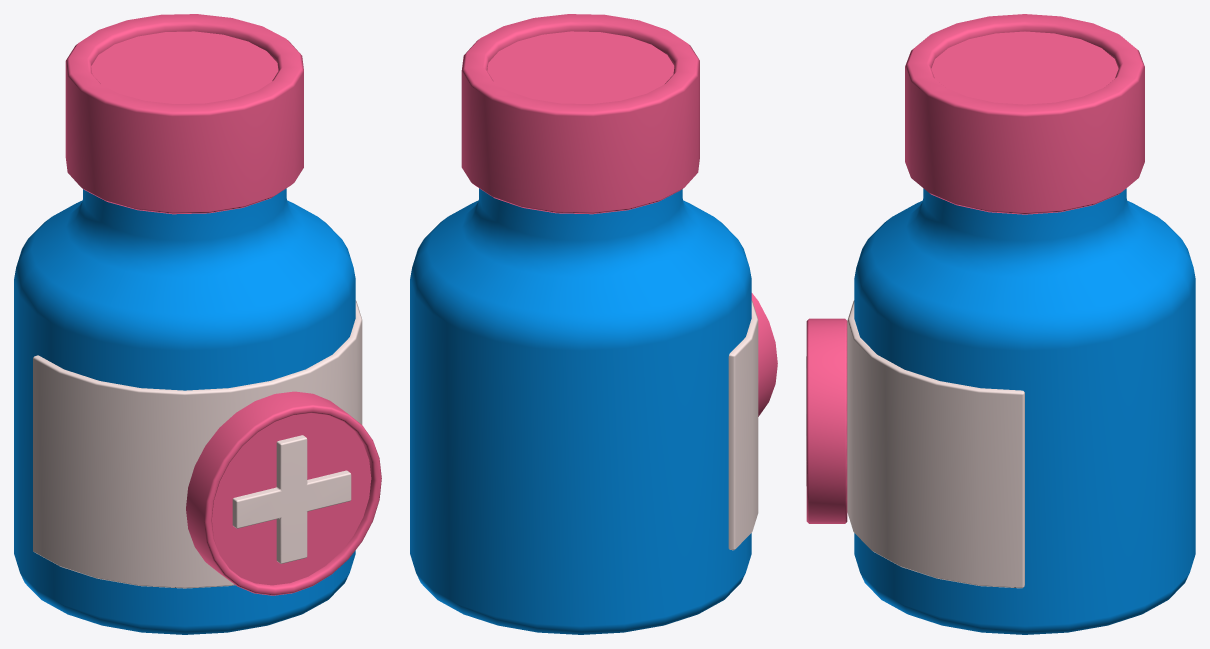
File: Public_3_Bottle_of_Medicine_1.glb
The picture shows the model from 3 angles, left to right: view 1: azimuth 30°, elevation 25°; view 2: azimuth 150°, elevation 25°; view 3: azimuth 270°, elevation 25°; orthographic projection.
Visible parts, largest first — view 1: Public_3_Bottle_of_Medicine_1; view 2: Public_3_Bottle_of_Medicine_1; view 3: Public_3_Bottle_of_Medicine_1.
Part boxes in pixels (x1,y1,x2,y2): Public_3_Bottle_of_Medicine_1: (14, 14, 381, 634); Public_3_Bottle_of_Medicine_1: (410, 14, 777, 634); Public_3_Bottle_of_Medicine_1: (806, 14, 1195, 634).
Bounding box in the file's own units: 1.26 × 1.99 × 1.39.
1 material, 1 textured.
